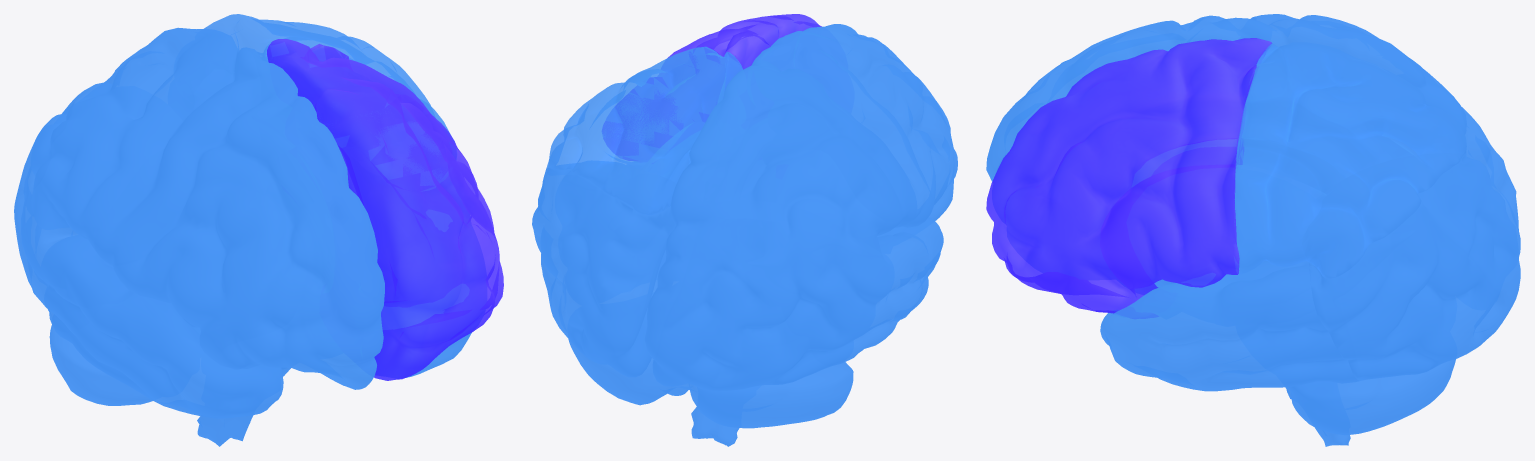
The picture shows the model from 3 angles, left to right: view 1: azimuth 30°, elevation 25°; view 2: azimuth 150°, elevation 25°; view 3: azimuth 270°, elevation 25°; orthographic projection. The views are drawn at different scales.
Visible parts, largest first — view 1: zuoeye, youeye, zuodingye, zuonieye, zuozhenye, youdingye, xiaonao, younieye, naogan, haimati; view 2: zuozhenye, zuodingye, youzhenye, zuoeye, youdingye, xiaonao, youeye, zuonieye, younieye, naogan, haimati; view 3: youeye, youdingye, youzhenye, younieye, zuoeye, xiaonao, zuodingye, zuozhenye, naogan, haimati.
Part boxes in pixels (x1=…): zuoeye: x1=94, y1=47, x2=384, y2=389; youeye: x1=267, y1=39, x2=503, y2=380; zuodingye: x1=30, y1=27, x2=265, y2=264; zuonieye: x1=40, y1=235, x2=283, y2=418; zuozhenye: x1=14, y1=86, x2=182, y2=326; youdingye: x1=204, y1=14, x2=456, y2=191; xiaonao: x1=49, y1=325, x2=152, y2=405; younieye: x1=381, y1=209, x2=471, y2=377; naogan: x1=144, y1=297, x2=290, y2=446; haimati: x1=258, y1=161, x2=327, y2=279; zuozhenye: x1=644, y1=201, x2=894, y2=391; zuodingye: x1=671, y1=60, x2=917, y2=255; youzhenye: x1=532, y1=163, x2=675, y2=377; zuoeye: x1=752, y1=24, x2=957, y2=245; youdingye: x1=546, y1=46, x2=742, y2=215; xiaonao: x1=568, y1=339, x2=853, y2=428; youeye: x1=602, y1=14, x2=821, y2=160; zuonieye: x1=750, y1=217, x2=943, y2=364; younieye: x1=555, y1=183, x2=657, y2=305; naogan: x1=691, y1=248, x2=824, y2=446; haimati: x1=720, y1=140, x2=772, y2=259; youeye: x1=986, y1=38, x2=1271, y2=318; youdingye: x1=1234, y1=42, x2=1466, y2=278; youzhenye: x1=1302, y1=153, x2=1520, y2=380; younieye: x1=1100, y1=261, x2=1359, y2=391; zuoeye: x1=986, y1=15, x2=1272, y2=181; xiaonao: x1=1287, y1=359, x2=1455, y2=435; zuodingye: x1=1252, y1=14, x2=1466, y2=134; zuozhenye: x1=1398, y1=74, x2=1520, y2=256; naogan: x1=1154, y1=261, x2=1350, y2=446; haimati: x1=1131, y1=139, x2=1344, y2=192.
Size of the model in its own units: 2.44 by 2.53 by 2.97.
3 materials, 2 textured.
